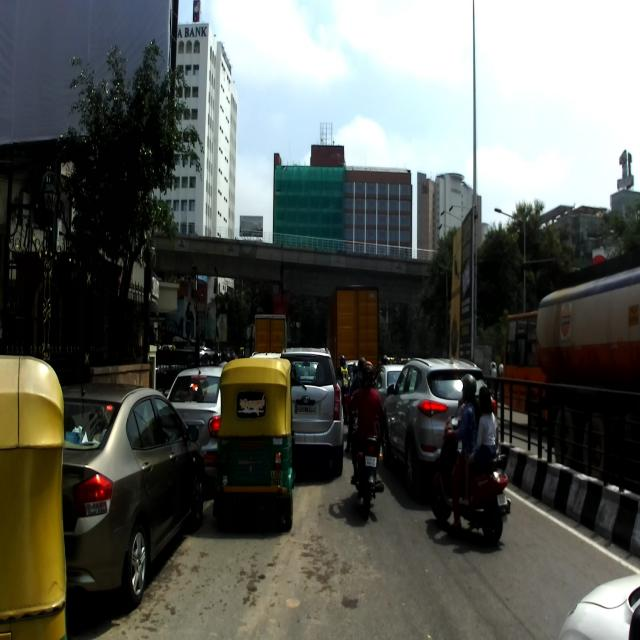Car: (381, 357, 497, 498)
Car_Honda: (58, 378, 205, 606), (165, 364, 227, 478)
Car_Mahindra: (281, 346, 344, 474)
autorickshaw: (212, 358, 297, 531)
bus: (503, 310, 549, 430)
motorcycle: (350, 411, 384, 519)
scooter: (429, 396, 511, 544)
truck: (536, 252, 640, 480)
